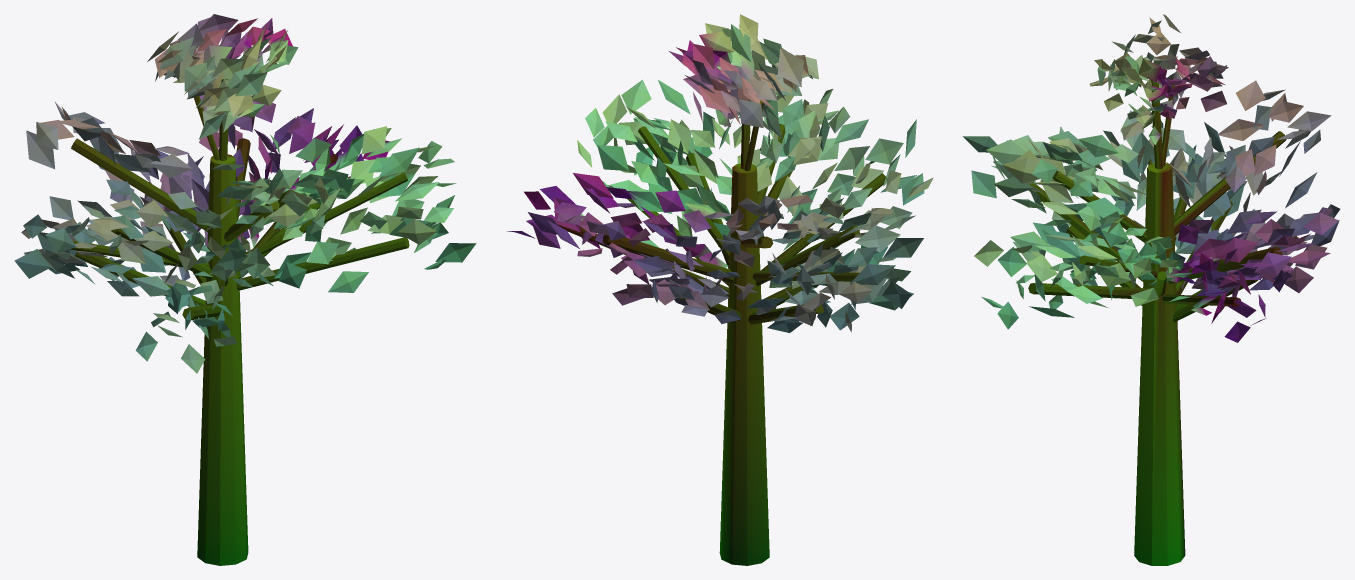
The model's file is old_growth_broadleaf_02.glb.
3 renders of one model, left to right at view 1: azimuth 30°, elevation 25°; view 2: azimuth 150°, elevation 25°; view 3: azimuth 270°, elevation 25°, orthographic. The views are drawn at different scales.
Visible parts, largest first — view 1: old_growth_broadleaf_02; view 2: old_growth_broadleaf_02; view 3: old_growth_broadleaf_02.
Boxes of the visible parts, x1,y1,x2,y2 form: old_growth_broadleaf_02: (14,14,476,565); old_growth_broadleaf_02: (506,14,933,565); old_growth_broadleaf_02: (963,14,1340,565).
Bounding box in the file's own units: 16.52 × 21.63 × 14.24.
